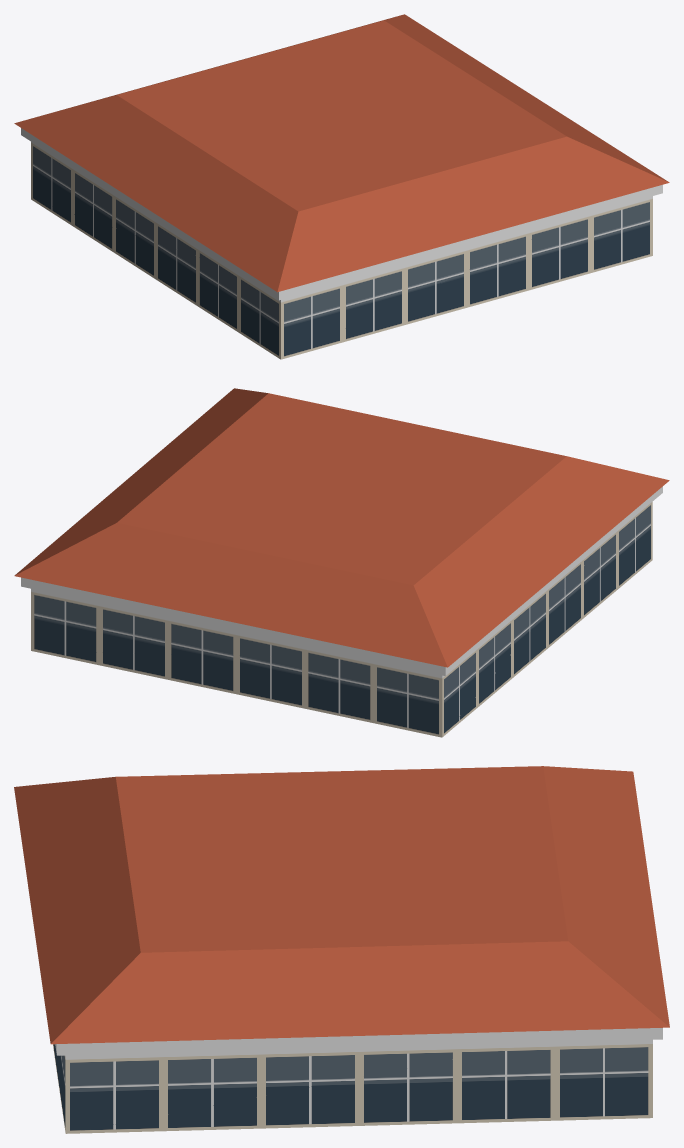
The model's file is olddutchcafe.glb.
The picture shows the model from 3 angles, top to bottom: view 1: azimuth 30°, elevation 25°; view 2: azimuth 150°, elevation 25°; view 3: azimuth 270°, elevation 25°; orthographic projection. The views are drawn at different scales.
Visible parts, largest first — view 1: olddutchcafe_lod0; view 2: olddutchcafe_lod0; view 3: olddutchcafe_lod0.
Boxes of the visible parts, box(x1,y1,x2,y2) form: olddutchcafe_lod0: box(14, 14, 669, 359); olddutchcafe_lod0: box(14, 388, 669, 737); olddutchcafe_lod0: box(14, 766, 669, 1133).
Size of what is drawn, in the model's own units: 24.17 by 6 by 24.57.
3 materials, 1 textured.
